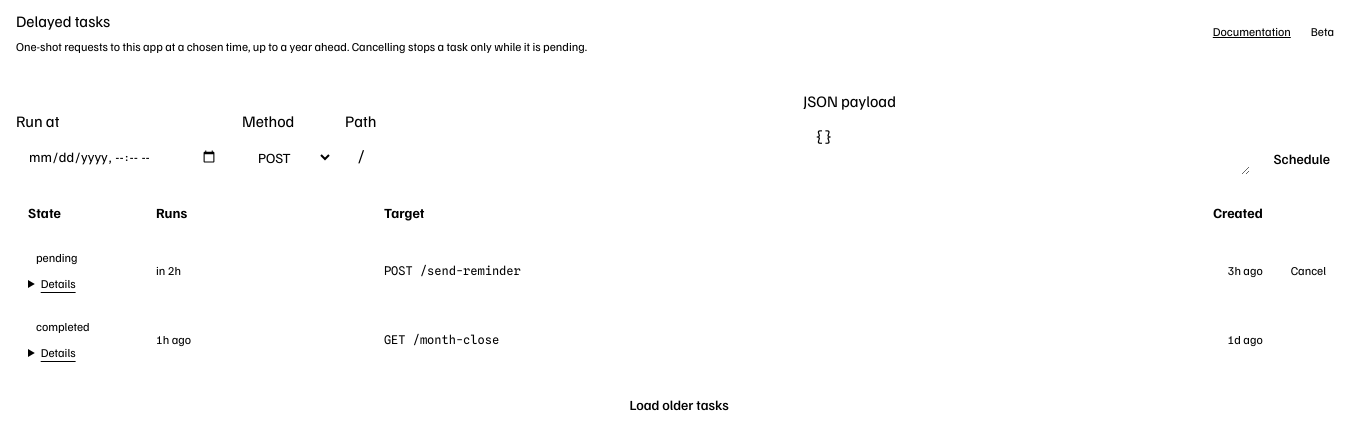
Test: DelayedTasks list › loads older tasks with the next_before cursor
The image size is (1351, 448).
Click the button "Load older tasks". click: (679, 405)
box: left=617, top=389, right=741, bottom=421
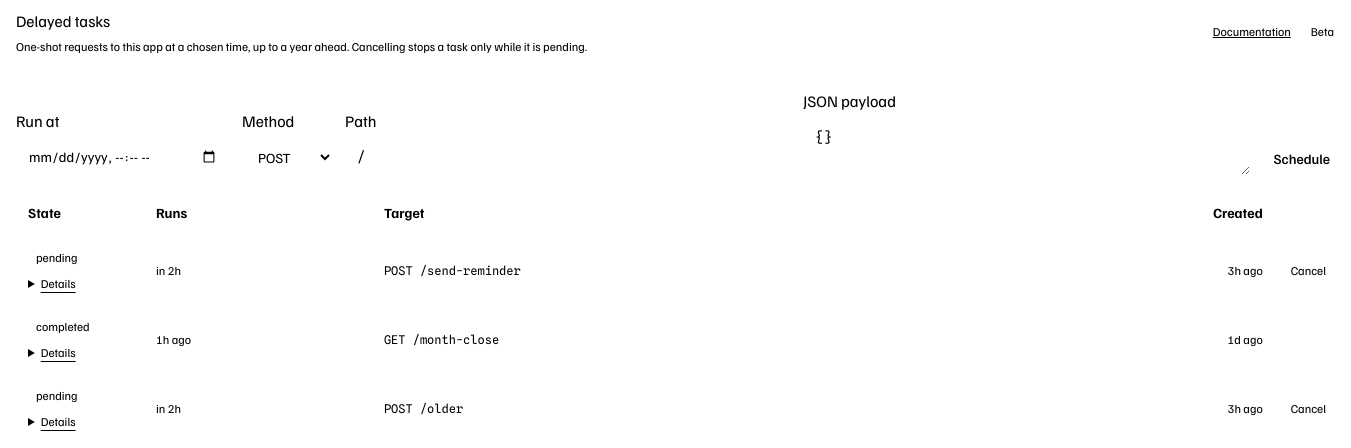
Expected: the text "POST /older" is shown, left=384, top=400, right=463, bottom=416
Expected: the button "Load older tasks" is gone
